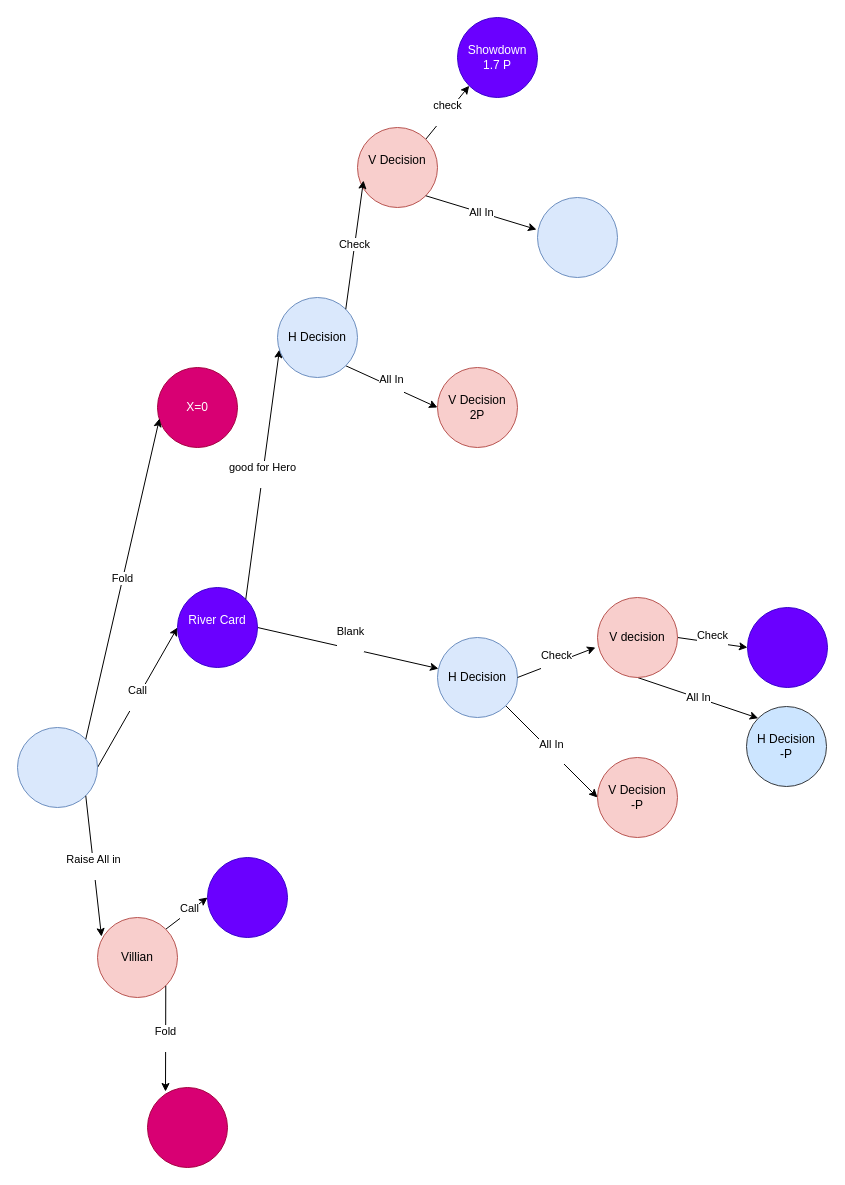
Image size: 845x1185. Some labels were removed from this diagram. Here are the shapes that lost their labels. From the top down, the centre of each, then its label:
point (577, 237): 2.5 P
point (787, 647): Showdown -.4 P
point (57, 767): Hero
point (247, 897): River Card .14P
point (187, 1127): X=2P
